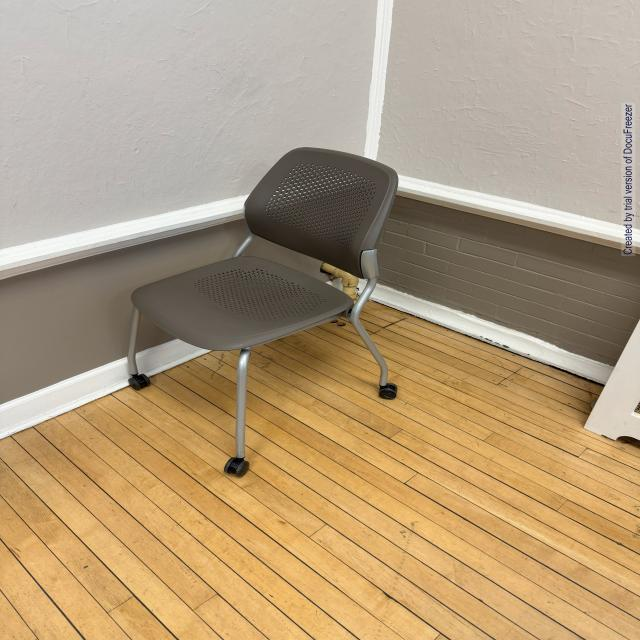chair: (109, 138, 438, 485)
